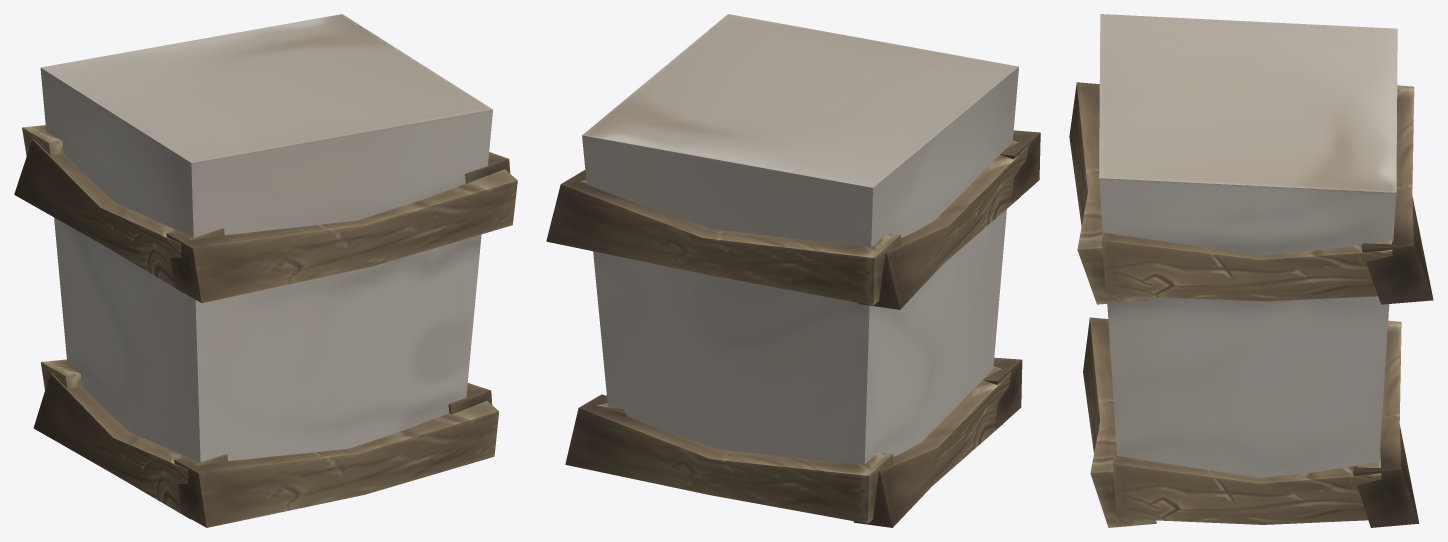
The model's file is Egypt_Village_Props_05.FBX.
3 views of the same model, side by side, from view 1: azimuth 30°, elevation 25°; view 2: azimuth 150°, elevation 25°; view 3: azimuth 270°, elevation 25° (orthographic). The views are drawn at different scales.
Visible parts, largest first — view 1: Egypt_Village_Props_05; view 2: Egypt_Village_Props_05; view 3: Egypt_Village_Props_05.
Part boxes in pixels (x1,y1,x2,y2): Egypt_Village_Props_05: (14,14,517,527); Egypt_Village_Props_05: (546,14,1040,527); Egypt_Village_Props_05: (1069,14,1433,527).
Bounding box in the file's own units: 71.45 × 72.7 × 64.98.
